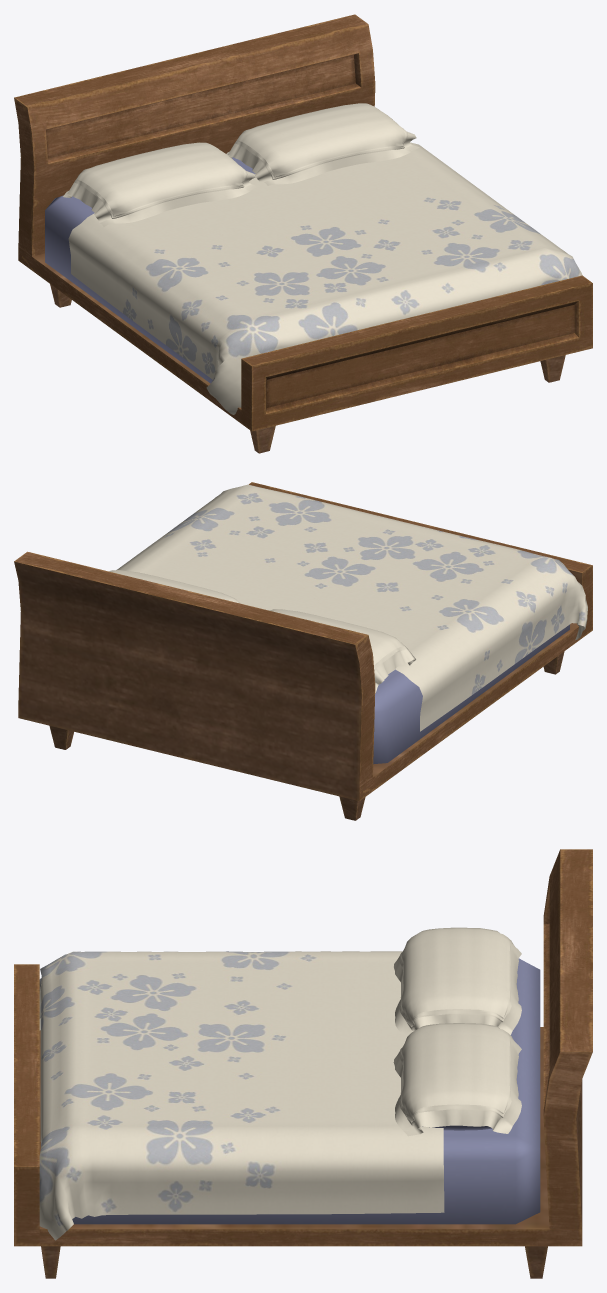
File: wooden bed.glb
The picture shows the model from 3 angles, top to bottom: view 1: azimuth 30°, elevation 25°; view 2: azimuth 150°, elevation 25°; view 3: azimuth 270°, elevation 25°; orthographic projection. The views are drawn at different scales.
Parts seen in each view (by area): view 1: g (×5); view 2: g (×5); view 3: g (×5).
Part boxes in pixels (x1=…): g (×5): x1=14, y1=14, x2=592, y2=453; g (×5): x1=14, y1=482, x2=592, y2=820; g (×5): x1=14, y1=849, x2=592, y2=1278.
Bounding box in the file's own units: 1.84 × 0.9106 × 2.
Materials: 2 (2 with a texture image).
